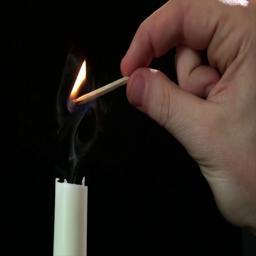fire: (70, 60, 87, 99)
